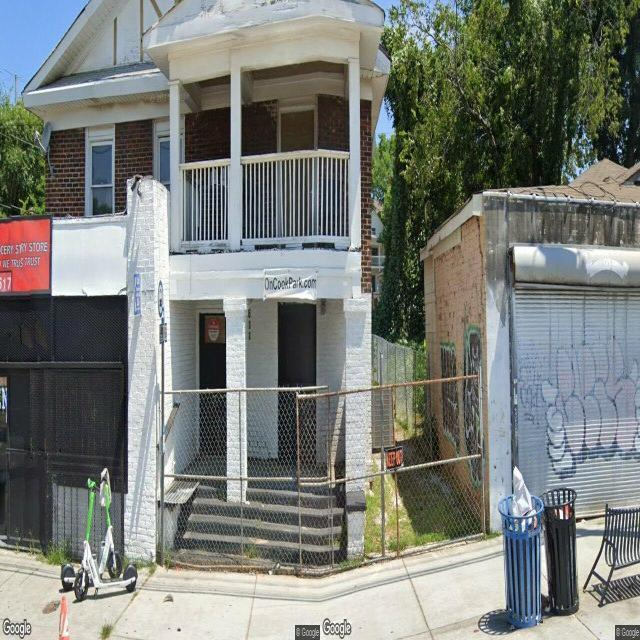seating: (584, 502, 640, 612)
trash_can: (498, 494, 543, 630), (541, 488, 581, 617)
